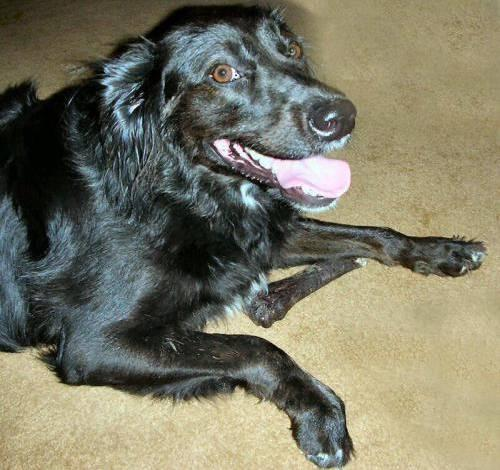dog: (0, 5, 485, 465)
